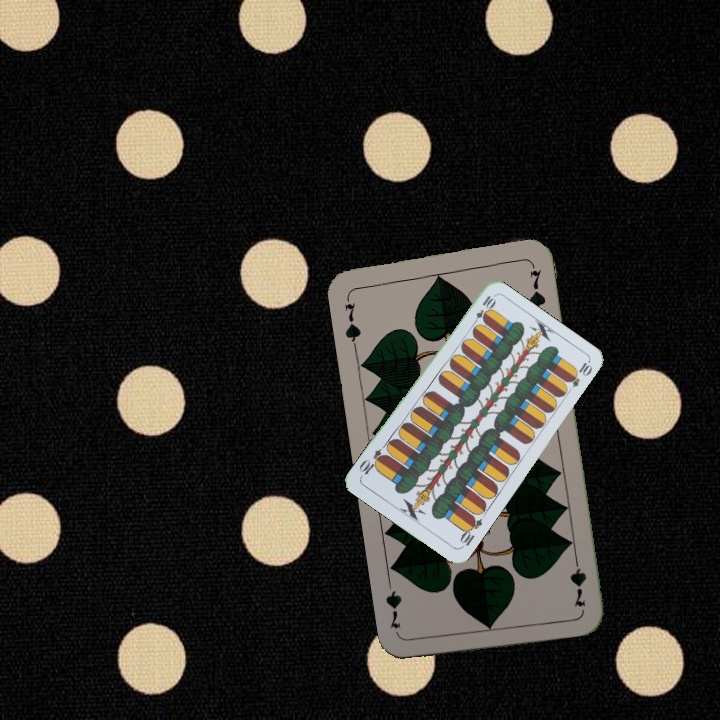E10: (456, 512, 485, 551), (468, 291, 497, 329)
G7: (340, 290, 364, 350), (566, 550, 589, 610)
